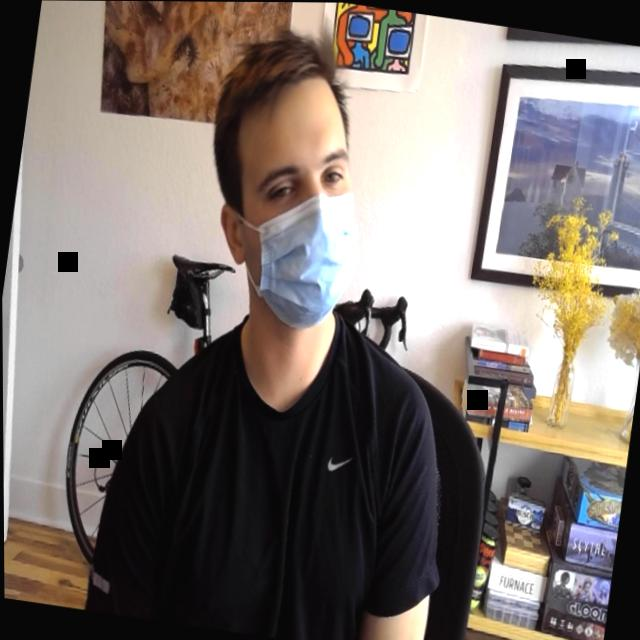Mask: (214, 62, 383, 334)
